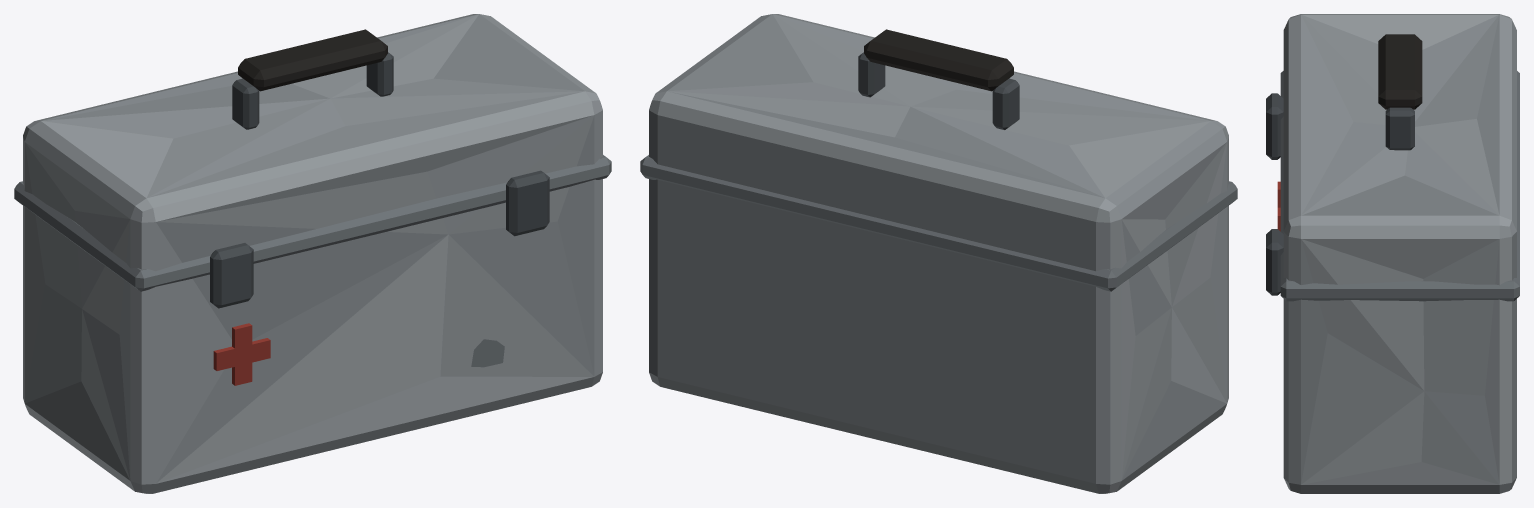
The model's file is medical_kit_hirurgicheskiy_idle.glb.
3 views of the same model, side by side, from view 1: azimuth 30°, elevation 25°; view 2: azimuth 150°, elevation 25°; view 3: azimuth 270°, elevation 25° (orthographic). The views are drawn at different scales.
Visible parts, largest first — view 1: medical_kit_hirurgicheskiy_idle; view 2: medical_kit_hirurgicheskiy_idle; view 3: medical_kit_hirurgicheskiy_idle.
Part boxes in pixels (<box>): medical_kit_hirurgicheskiy_idle: <box>14,14,611,493</box>; medical_kit_hirurgicheskiy_idle: <box>640,14,1237,493</box>; medical_kit_hirurgicheskiy_idle: <box>1266,14,1519,493</box>.
Size of the model in its own units: 0.354 by 0.25 by 0.174.
Materials: 1 (1 with a texture image).
